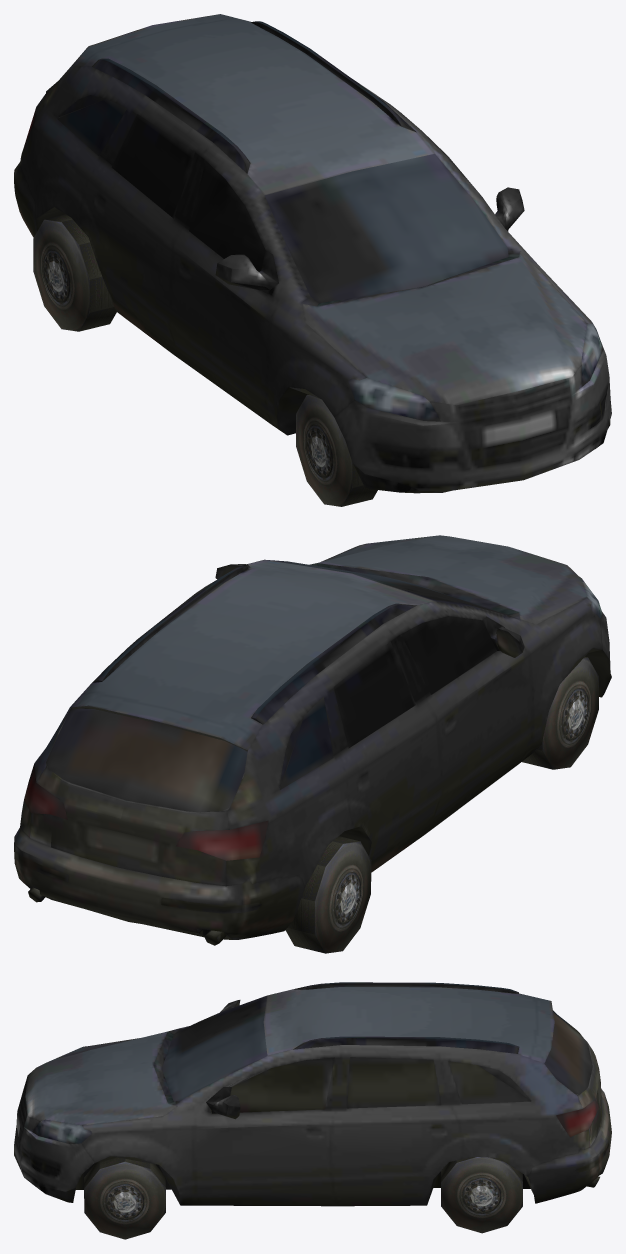
File: car 5.FBX
3 renders of one model, top to bottom at view 1: azimuth 30°, elevation 25°; view 2: azimuth 150°, elevation 25°; view 3: azimuth 270°, elevation 25°, orthographic. The views are drawn at different scales.
Visible parts, largest first — view 1: Jeep_2__10_, Wheels_FR__1__157, Wheels_FR__2__157; view 2: Jeep_2__10_, Wheels_FR__1__157, Wheels_FR__2__157; view 3: Jeep_2__10_, Wheels_FR__2__157, Wheels_FR__1__157.
Part boxes in pixels (box(x1,y1,x2,y2)): Jeep_2__10_: box(14, 14, 611, 493); Wheels_FR__1__157: box(33, 214, 116, 331); Wheels_FR__2__157: box(296, 394, 610, 506); Jeep_2__10_: box(14, 535, 611, 945); Wheels_FR__1__157: box(285, 836, 371, 953); Wheels_FR__2__157: box(522, 657, 598, 769); Jeep_2__10_: box(14, 982, 611, 1206); Wheels_FR__2__157: box(84, 1157, 165, 1239); Wheels_FR__1__157: box(441, 1157, 522, 1233).
Bounding box in the file's own units: 21.89 × 17.03 × 50.74.
2 materials, 2 textured.
